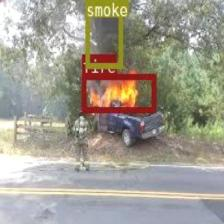fire: (81, 74, 155, 111)
smoke: (85, 0, 122, 66)
